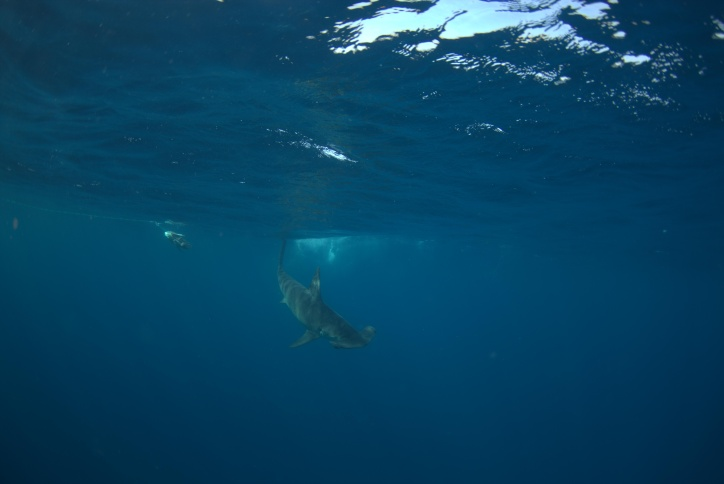Hammer: (230, 217, 403, 368)
